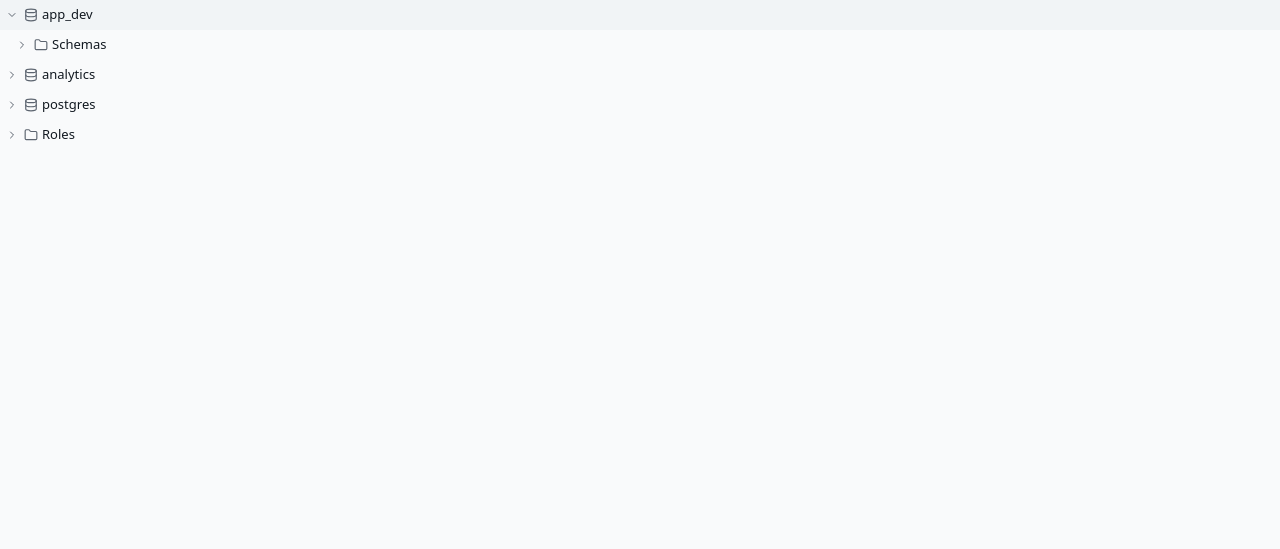
it: "Script as" menu of the object tree › offers SELECT only on a view
The image size is (1280, 549).
Earlier steps of the test are not shown.
Click the button named "Expand" next to "Schemas" at (22, 45), box [16, 39, 28, 51]
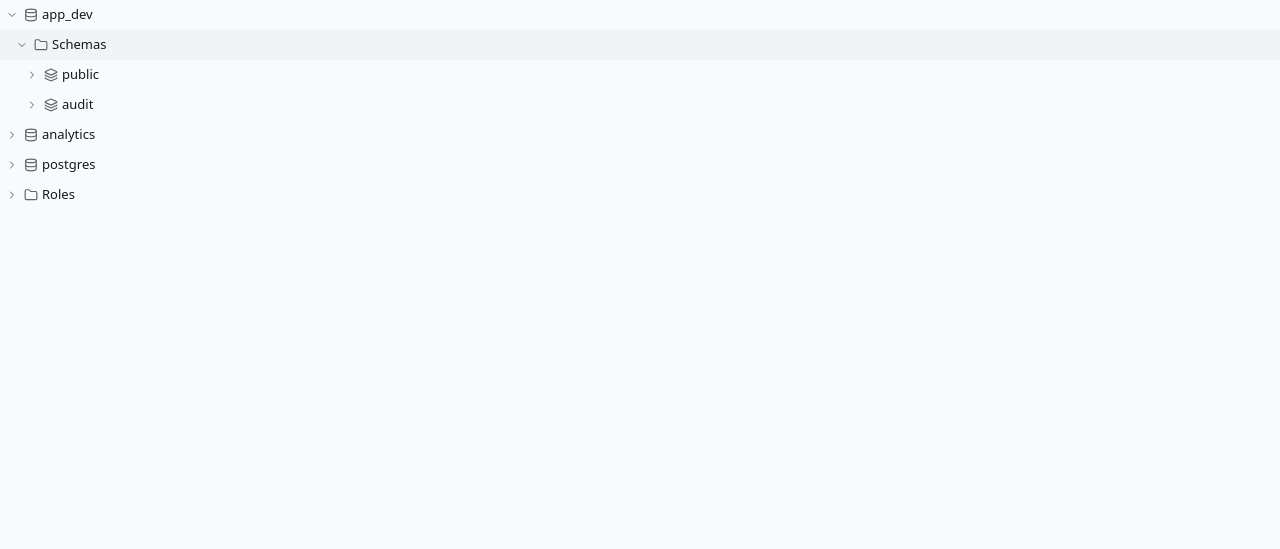
Click the button named "Expand" next to "public" at (32, 75), box [26, 69, 38, 81]
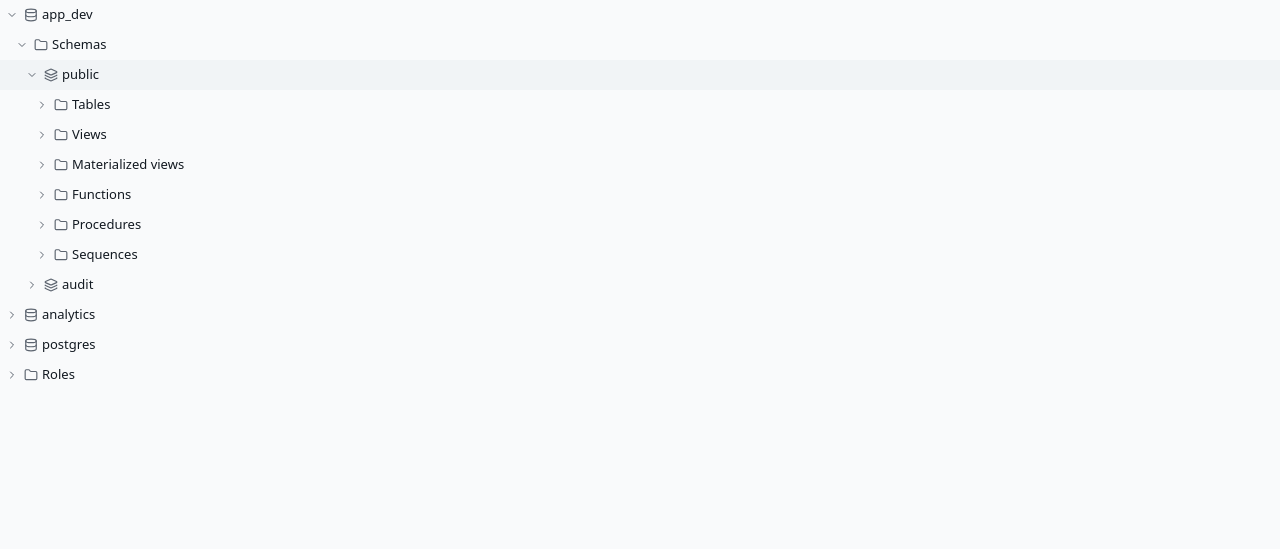
Click the button named "Expand" next to "Tables" at (42, 105), box [36, 99, 48, 111]
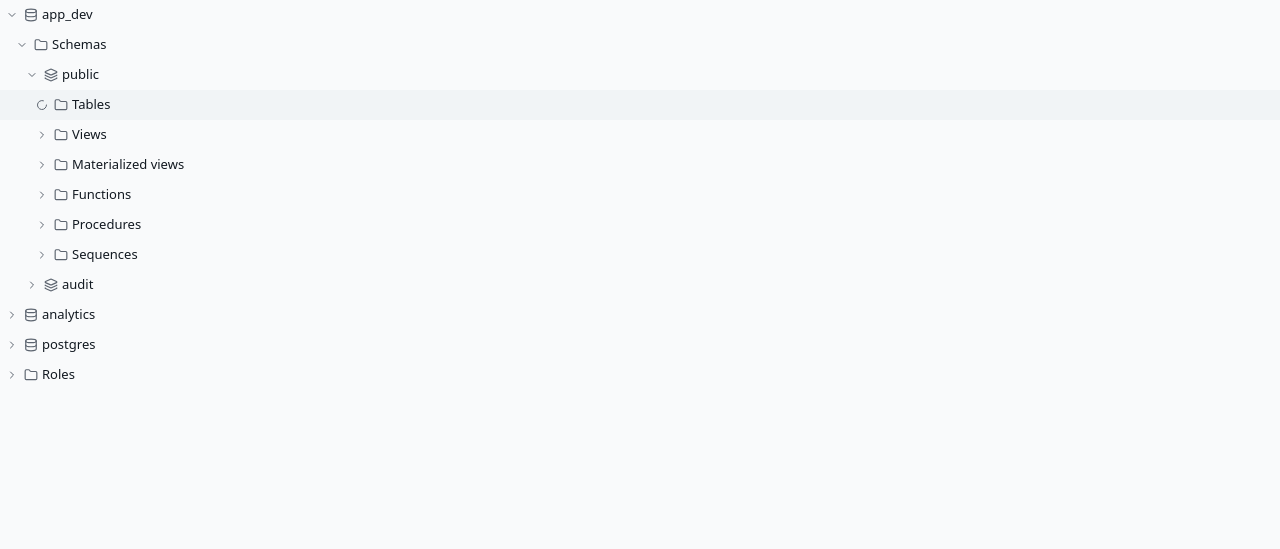
Click the 1st button named "Expand" at (42, 135), box [36, 129, 48, 141]
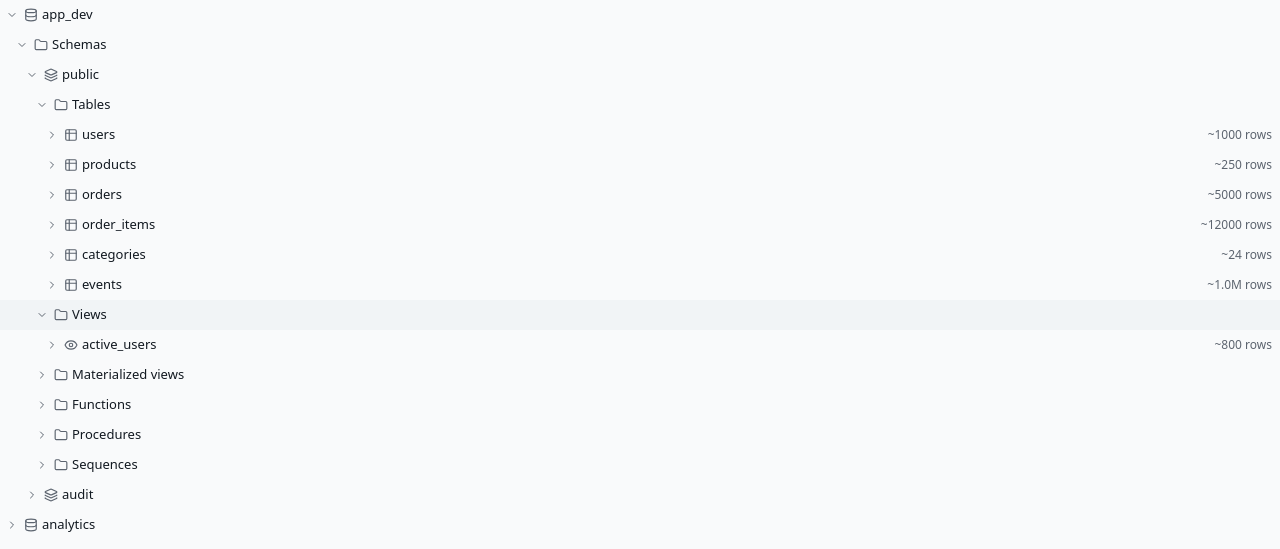
Right-click the list item "active_users ~800 rows" at (119, 344), box [0, 330, 1279, 360]
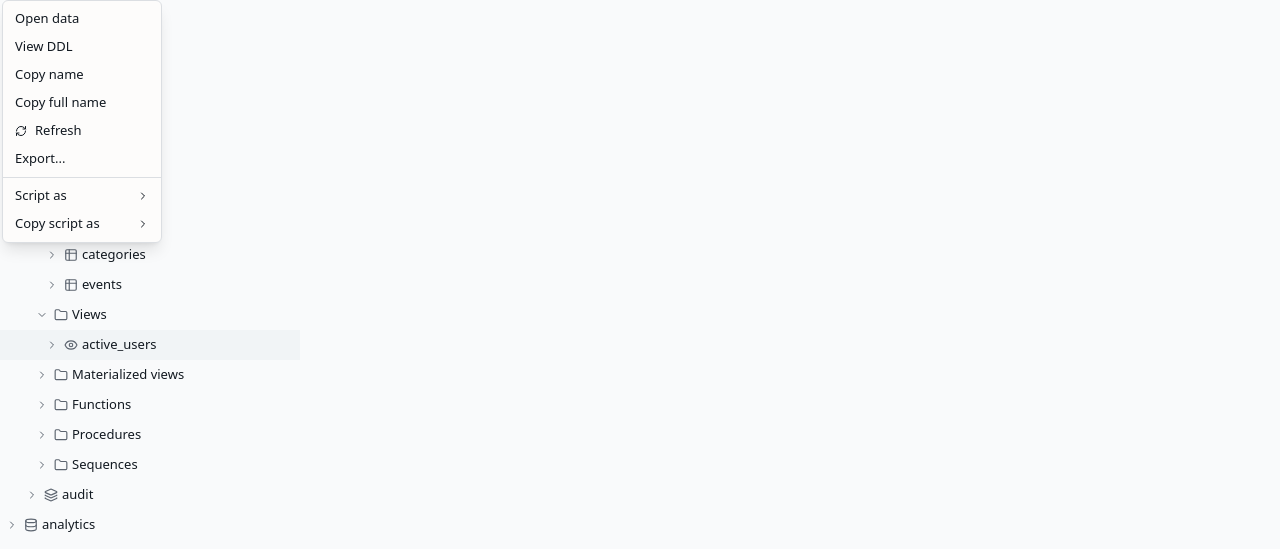
Click the menu item "Script as" at (41, 195), box [7, 182, 157, 210]
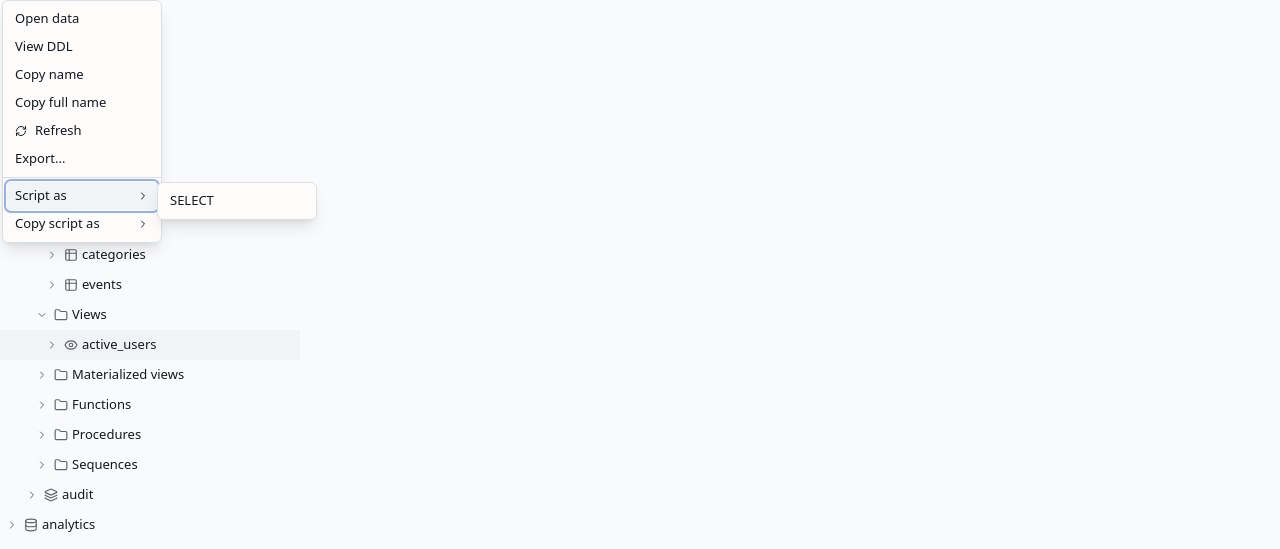
Expected: the menu item "SELECT" is shown, [170, 191, 214, 209]
